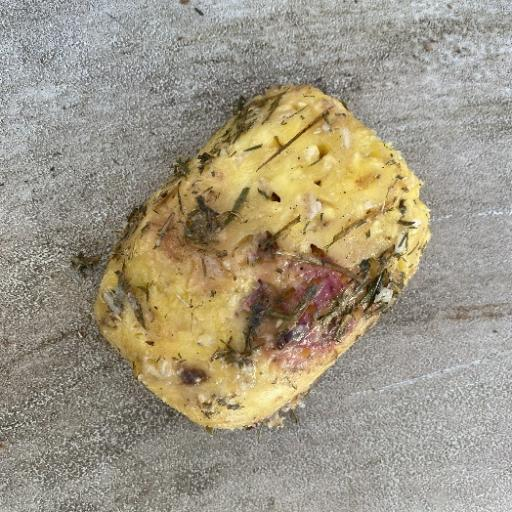Waste: (92, 81, 432, 432)
